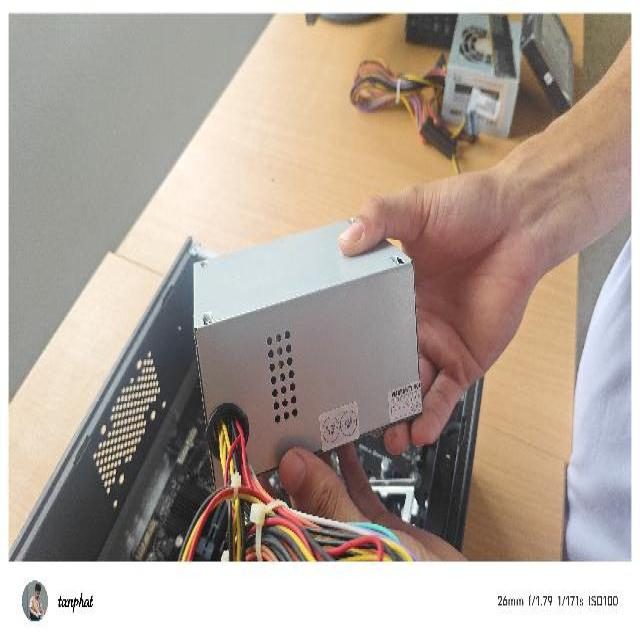PSU: (190, 211, 428, 498)
